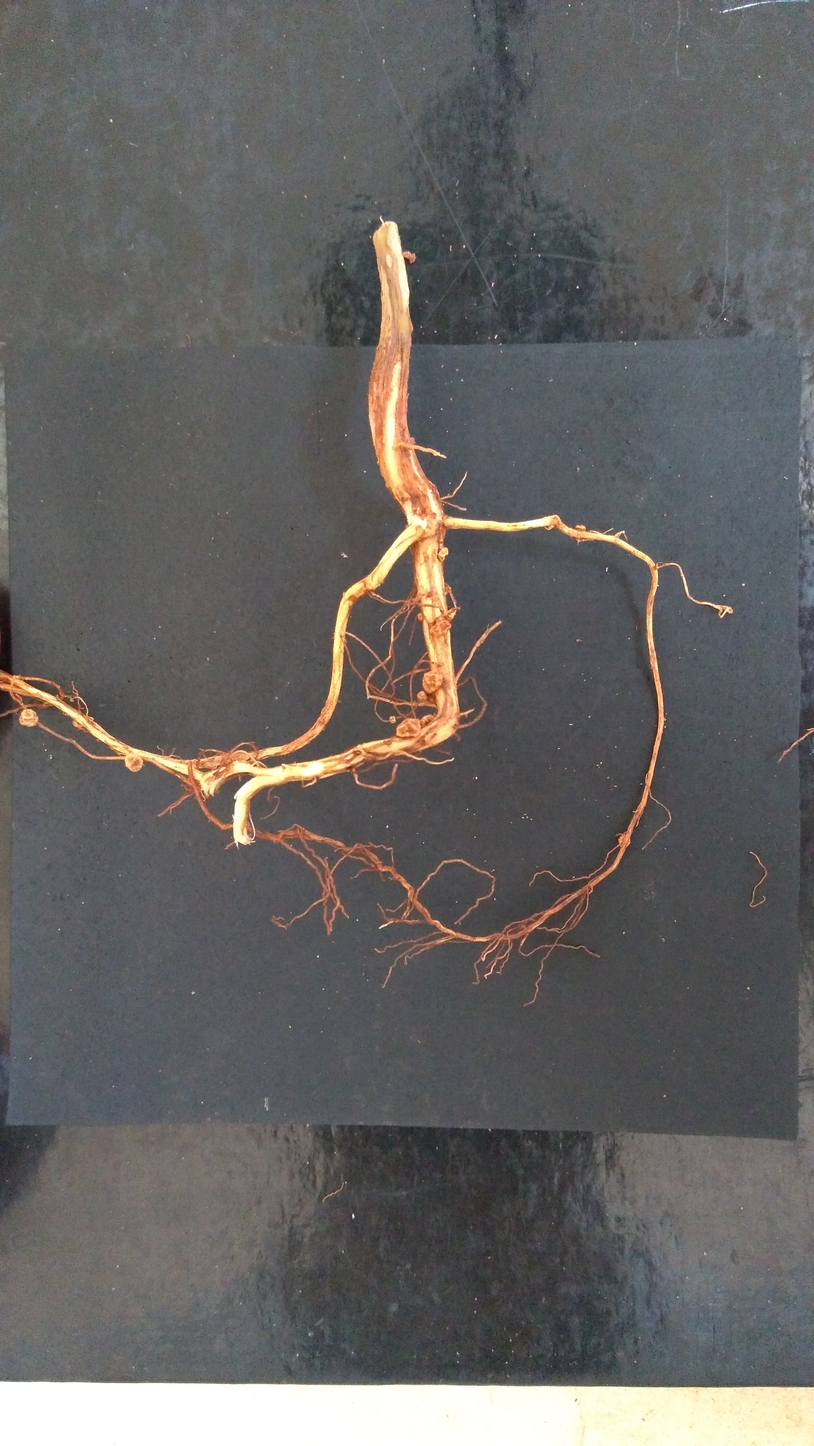nodule: (422, 671, 443, 694), (396, 718, 420, 737), (429, 619, 451, 637), (72, 715, 94, 732), (125, 753, 143, 772), (19, 709, 38, 727), (419, 714, 434, 728), (575, 524, 586, 542), (402, 251, 417, 264), (617, 833, 630, 848), (438, 547, 449, 562), (417, 691, 427, 702), (446, 612, 456, 620), (389, 716, 396, 723), (418, 613, 424, 621)
